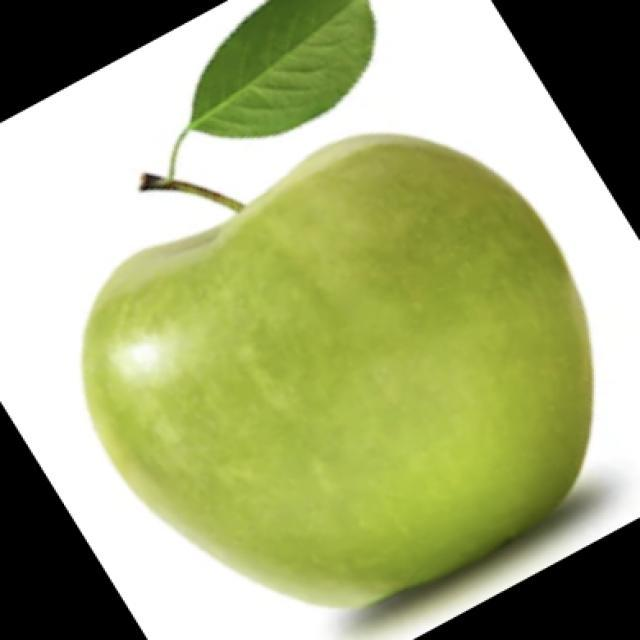Fresh Apple: (111, 163, 586, 580)
